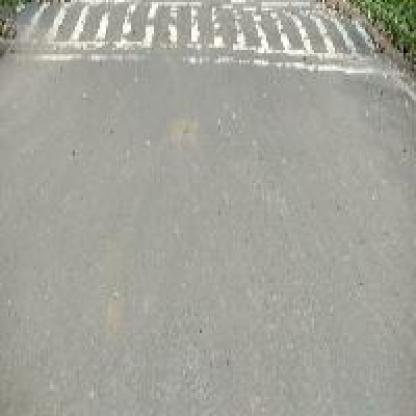Speed Bump: (0, 2, 385, 77)
